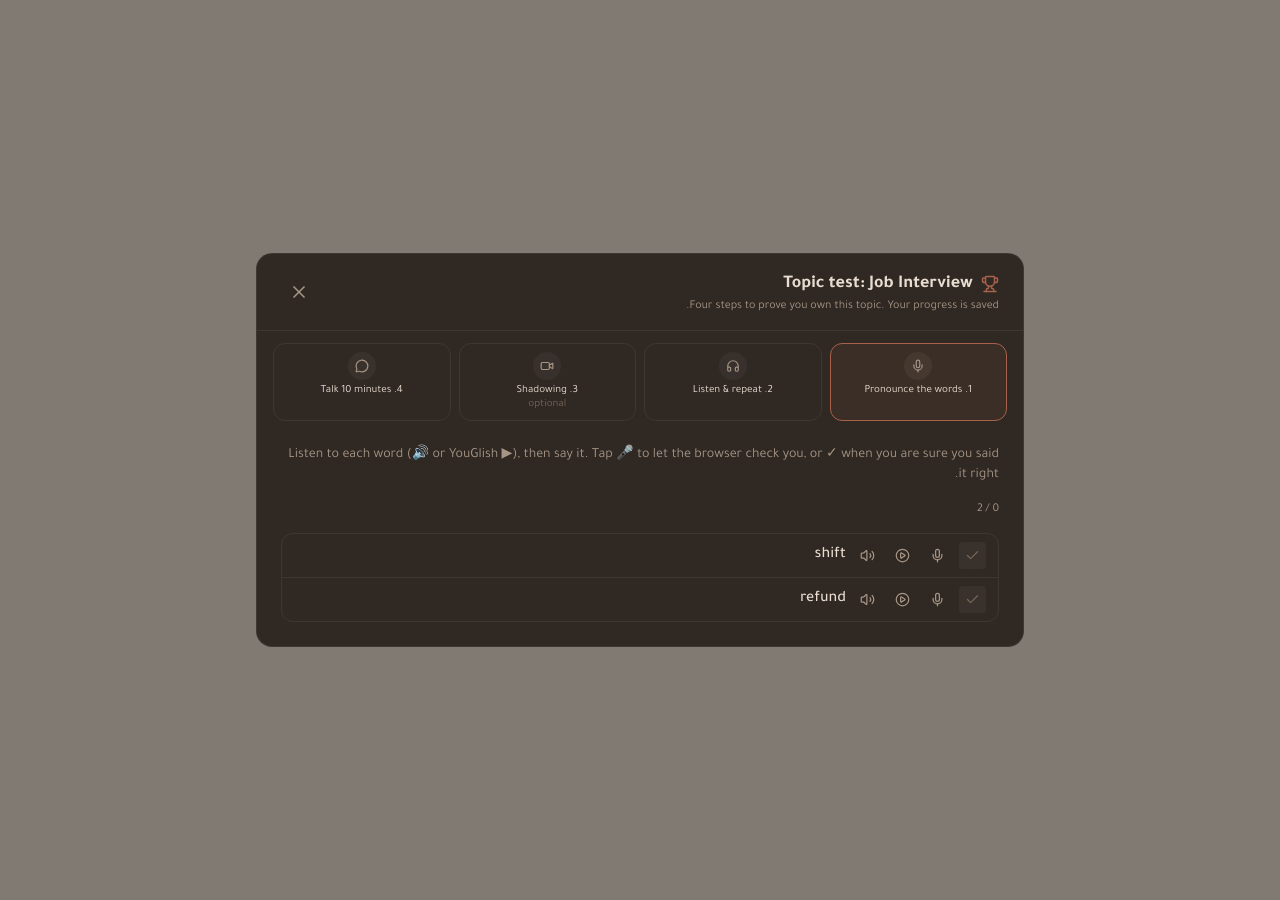
Test: TopicChallenge › falls back to manual checking when recognition is blocked (e.g. Brave)
This screenshot has width=1280, height=900.
What coordinates should you click on to do the following:
click the button named "Say it: shift"
I would click on:
 (938, 555)
Its box is x1=924 y1=542 x2=951 y2=569.
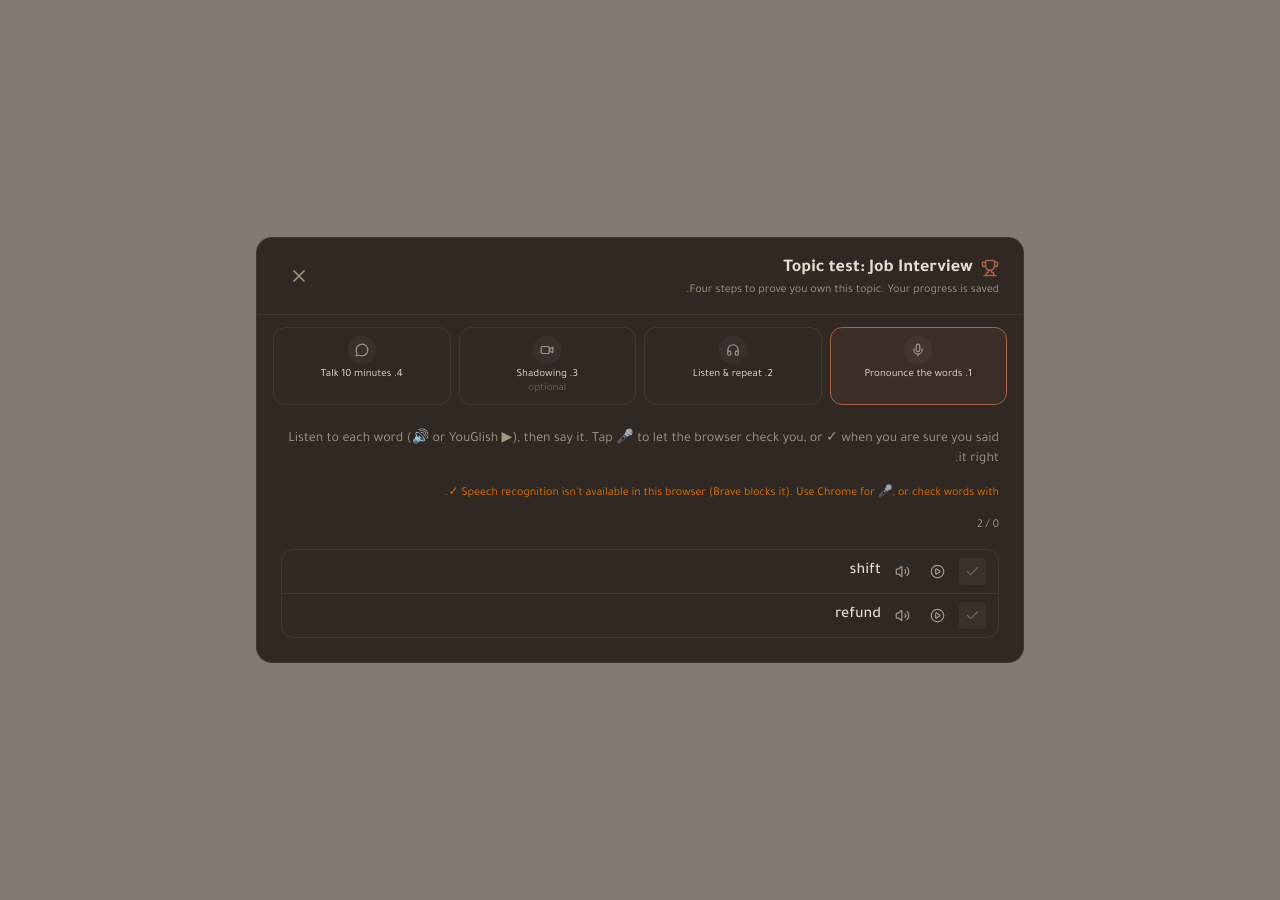
Result: the text "Brave blocks it" is shown at x1=445 y1=487 x2=999 y2=499
What coordinates should you click on to do the following:
click the button named "I said it right: shift"
I would click on:
 (972, 571)
Its box is x1=959 y1=558 x2=986 y2=585.
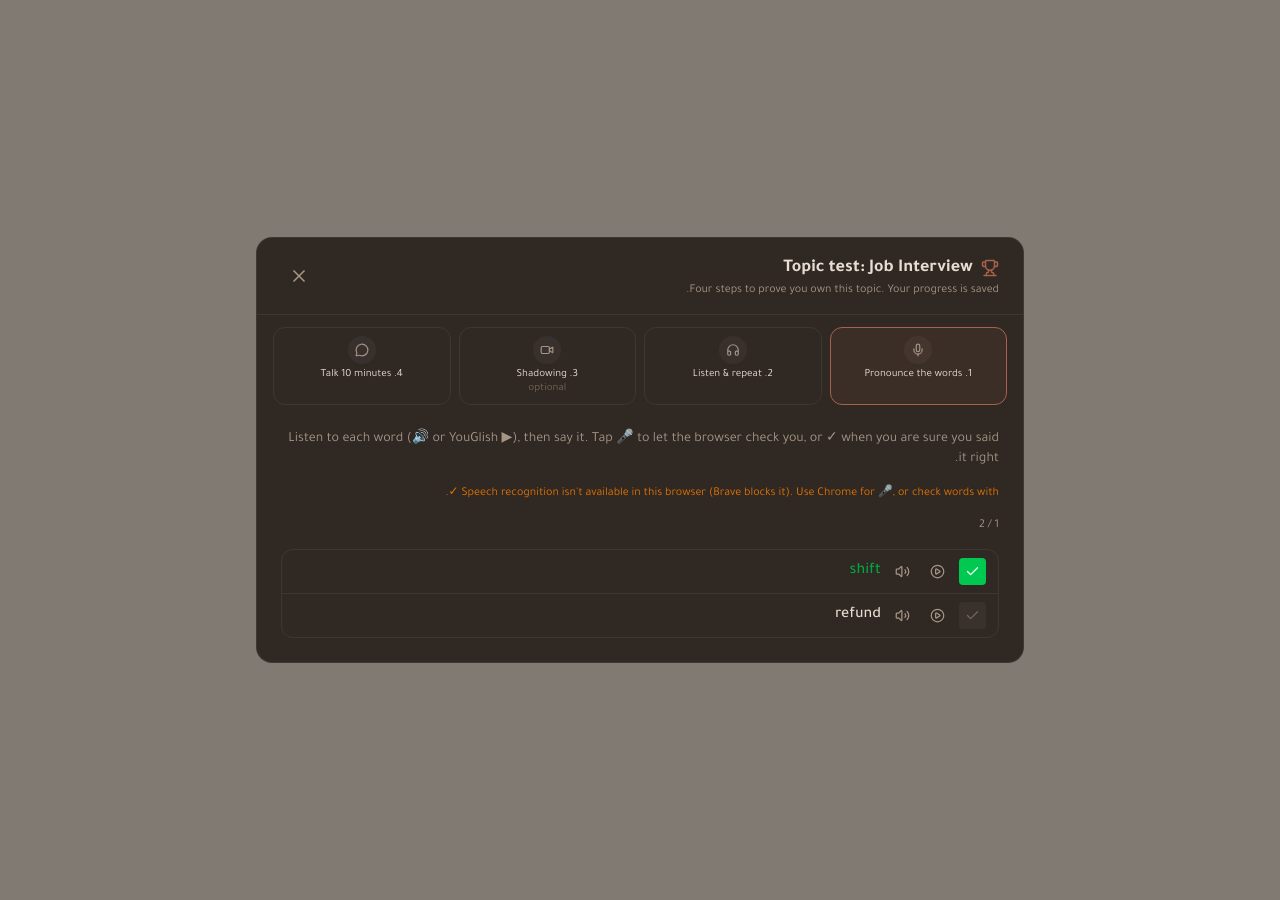
Result: the text "1 / 2" is shown at x1=979 y1=519 x2=999 y2=531
